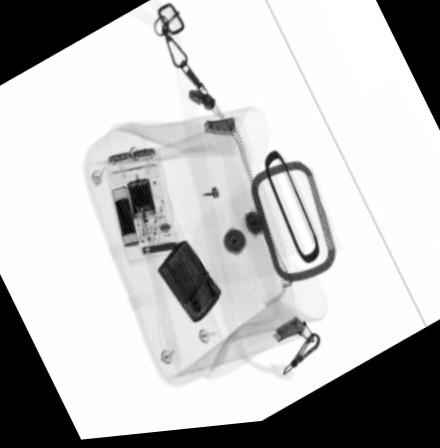Lighter: (156, 242, 223, 326)
